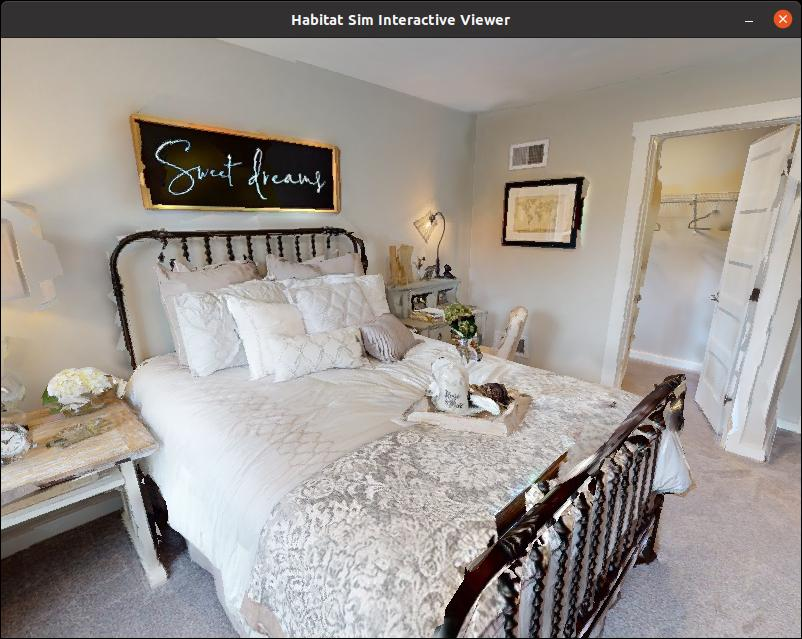bed: (113, 207, 711, 639)
door: (701, 129, 778, 455)
door-frame: (603, 113, 802, 451)
table: (0, 349, 159, 621)
